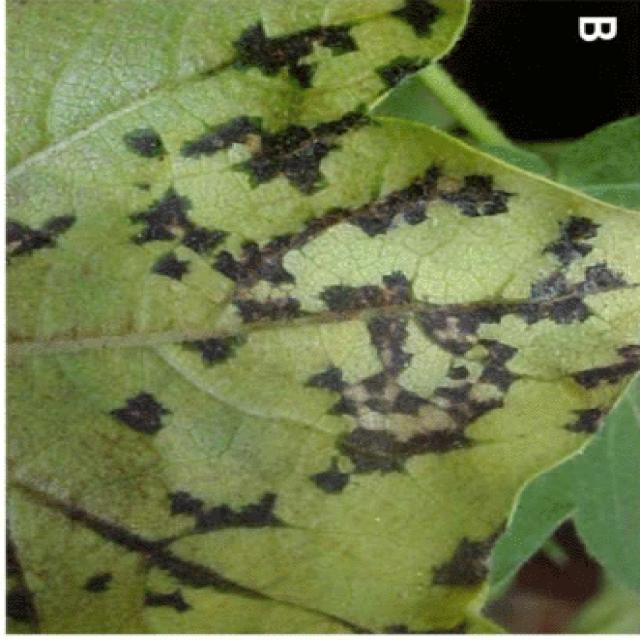Bacterial Blight: (100, 80, 599, 470)
